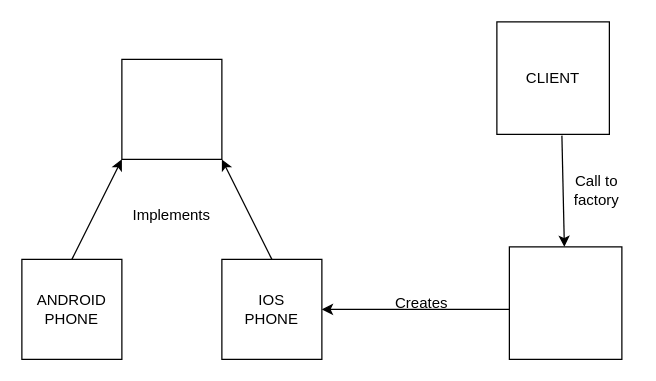
Some shapes in this 656 by 381 pixel diagram are drawn without their labels. Each missing label, with the centre of its shape:
PHONE: the point at 171,108
PHONE FACTORY: the point at 565,302
